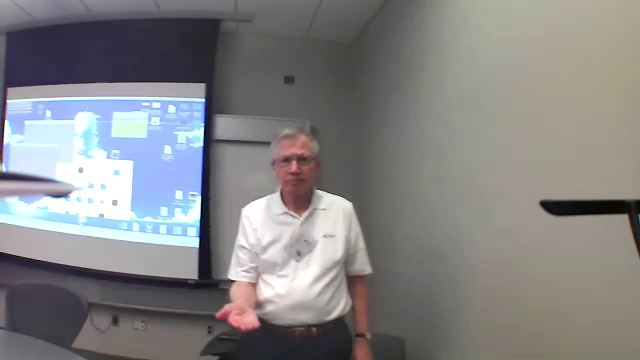land: (209, 295, 268, 333)
